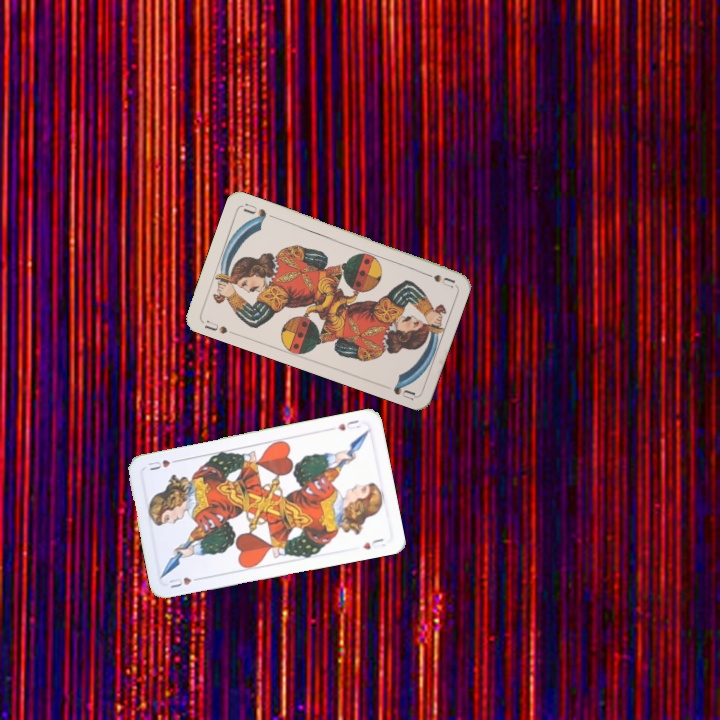HU: (165, 572, 204, 591), (333, 416, 363, 433)
SU: (416, 267, 457, 290), (201, 316, 230, 337)
